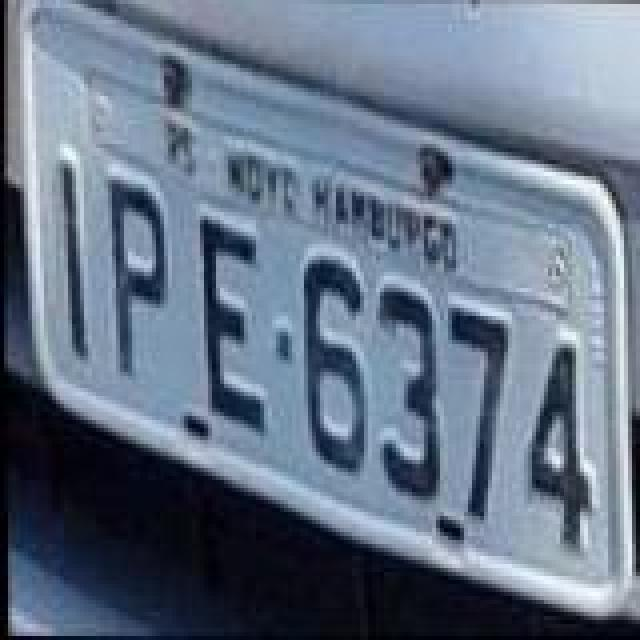1: (54, 152, 94, 360)
3: (366, 278, 442, 502)
4: (522, 338, 594, 550)
6: (294, 258, 370, 474)
7: (442, 306, 510, 522)
E: (190, 214, 266, 438)
P: (106, 174, 174, 386)
